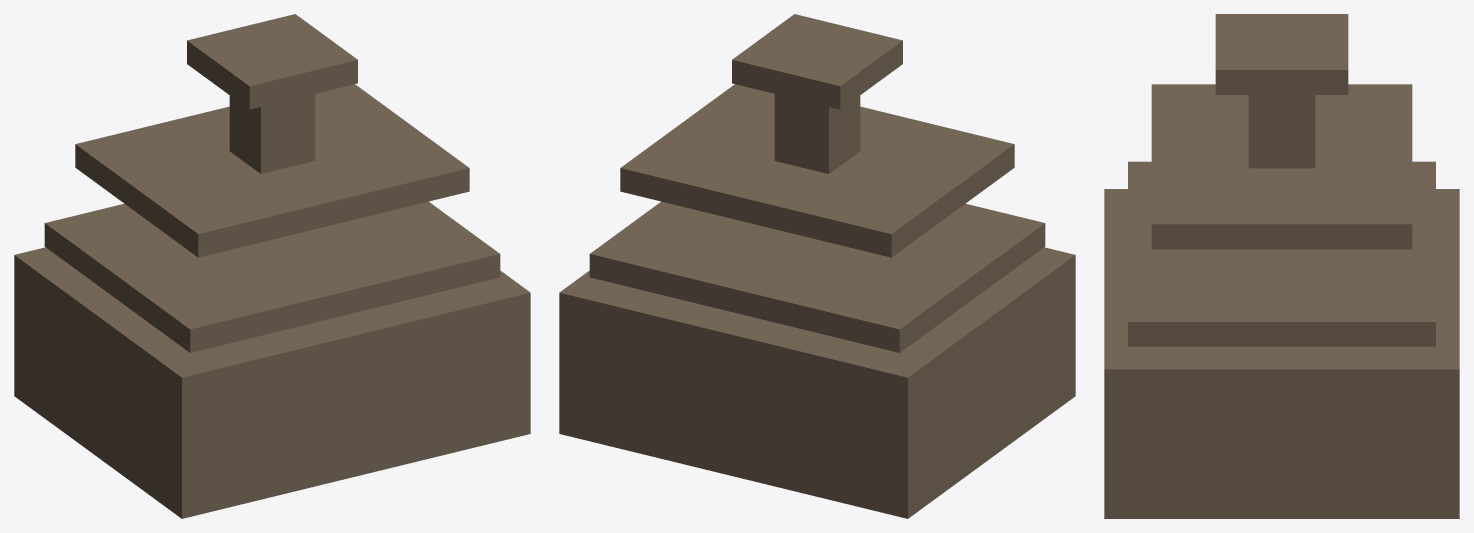
The model's file is press.glb.
3 views of the same model, side by side, from view 1: azimuth 30°, elevation 25°; view 2: azimuth 150°, elevation 25°; view 3: azimuth 270°, elevation 25° (orthographic). The views are drawn at different scales.
Visible parts, largest first — view 1: module.press; view 2: module.press; view 3: module.press.
Part boxes in pixels (<box>): module.press: <box>14,14,530,518</box>; module.press: <box>559,14,1075,518</box>; module.press: <box>1104,14,1459,518</box>.
Size of the model in its own units: 1 by 1 by 0.8333.
